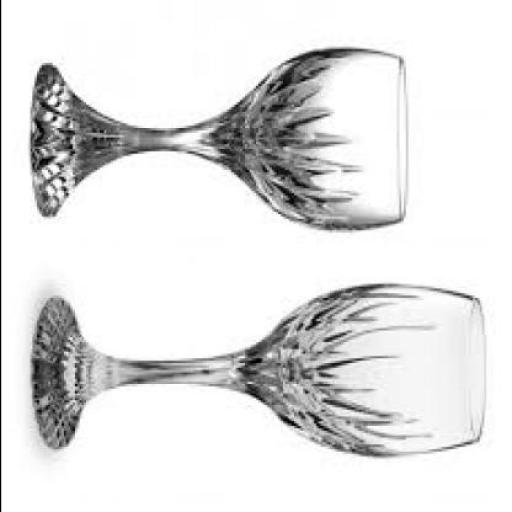glass: (34, 284, 488, 452), (34, 44, 409, 228)
